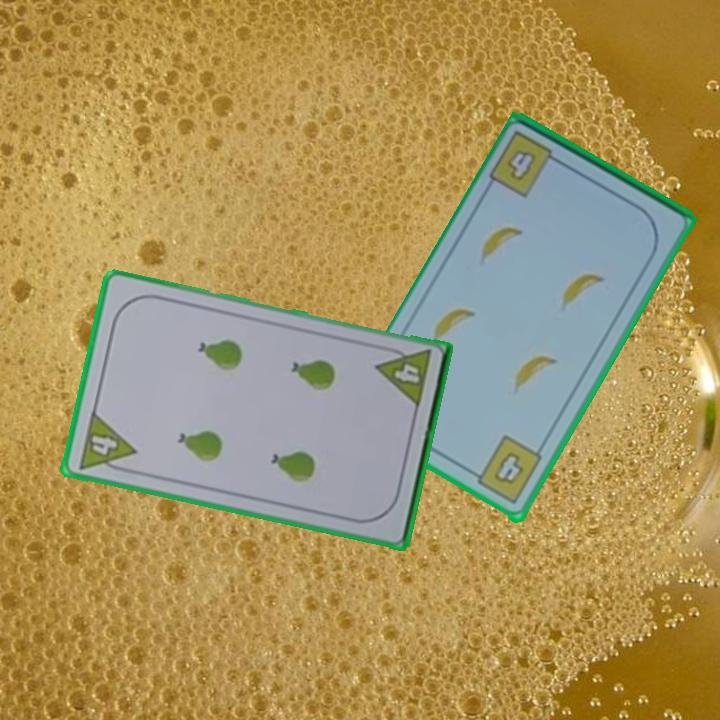4b: (466, 432, 546, 509), (486, 127, 568, 201)
4p: (75, 407, 139, 477), (372, 342, 434, 411)
